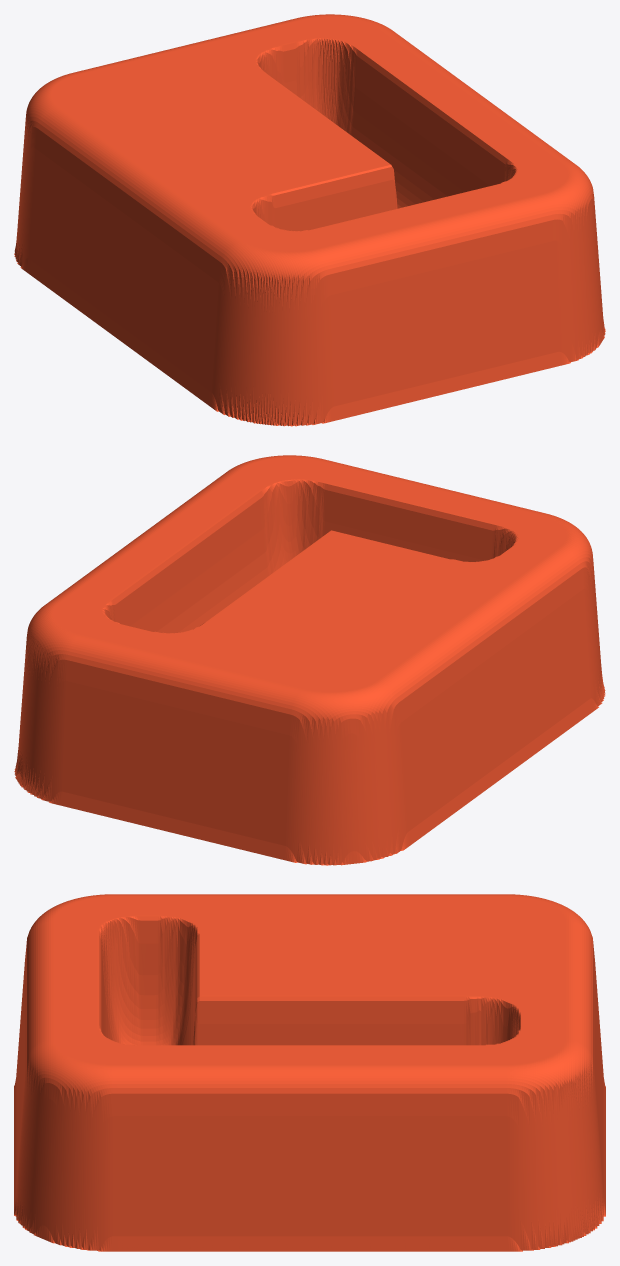
File: mold.glb
3 views of the same model, one above another, from view 1: azimuth 30°, elevation 25°; view 2: azimuth 150°, elevation 25°; view 3: azimuth 270°, elevation 25° (orthographic). The views are drawn at different scales.
Parts seen in each view (by area): view 1: geometry_0; view 2: geometry_0; view 3: geometry_0.
Boxes of the visible parts, box(x1,y1,x2,y2) form: geometry_0: box(14, 14, 605, 426); geometry_0: box(14, 455, 605, 865); geometry_0: box(14, 894, 605, 1251).
Size of the model in its own units: 0.0436 by 0.0172 by 0.0542.
